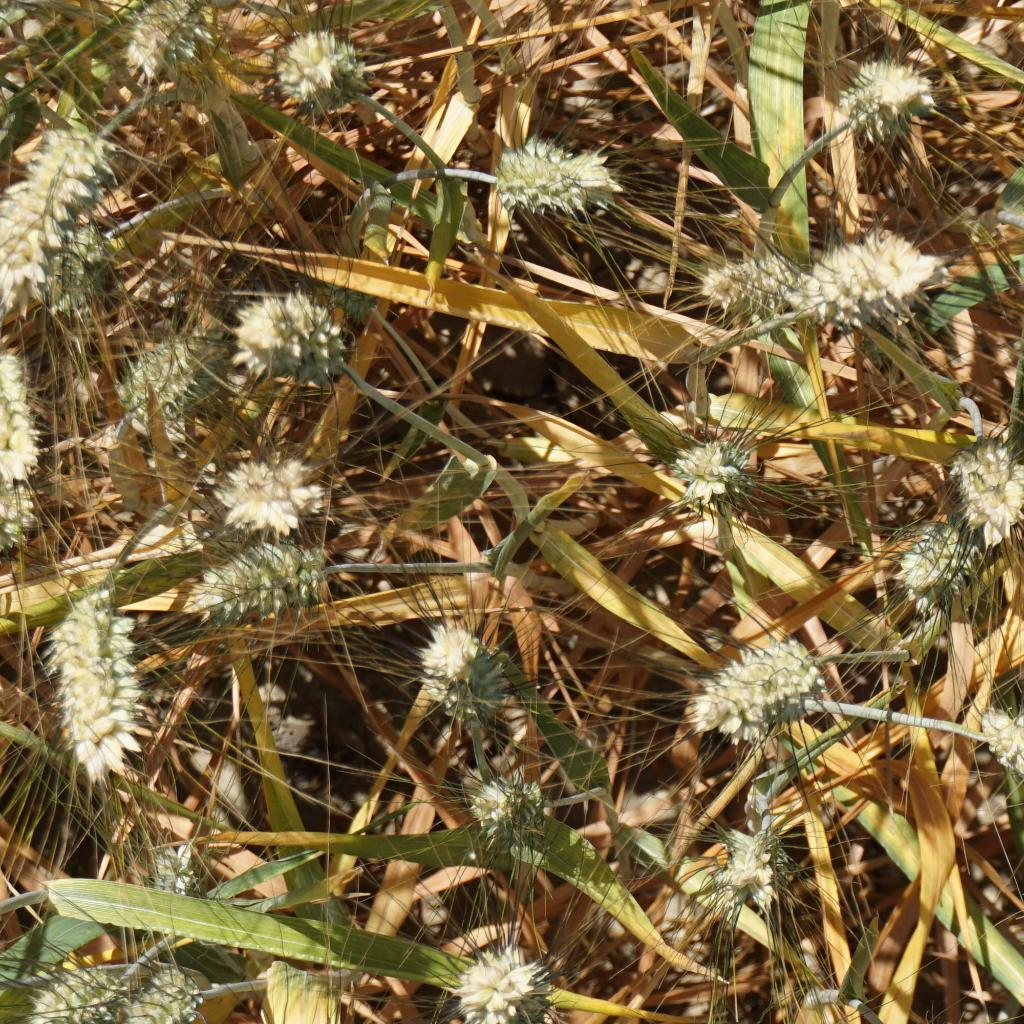0-0: (62, 576, 143, 762), (228, 281, 360, 390), (692, 636, 820, 745), (481, 131, 632, 220), (183, 531, 327, 614), (0, 120, 68, 285), (832, 51, 947, 147), (805, 233, 937, 314), (947, 432, 1024, 563), (449, 940, 559, 1024), (271, 20, 371, 112), (112, 328, 215, 417), (210, 449, 329, 525), (418, 622, 503, 728), (898, 516, 984, 611), (123, 0, 215, 81), (2, 957, 108, 1024), (470, 766, 549, 848), (77, 969, 192, 1024), (711, 258, 797, 323), (0, 346, 46, 465), (672, 429, 750, 493), (711, 828, 780, 899), (48, 223, 101, 312), (145, 837, 199, 918), (983, 699, 1024, 796), (0, 0, 31, 79), (0, 474, 25, 562)
